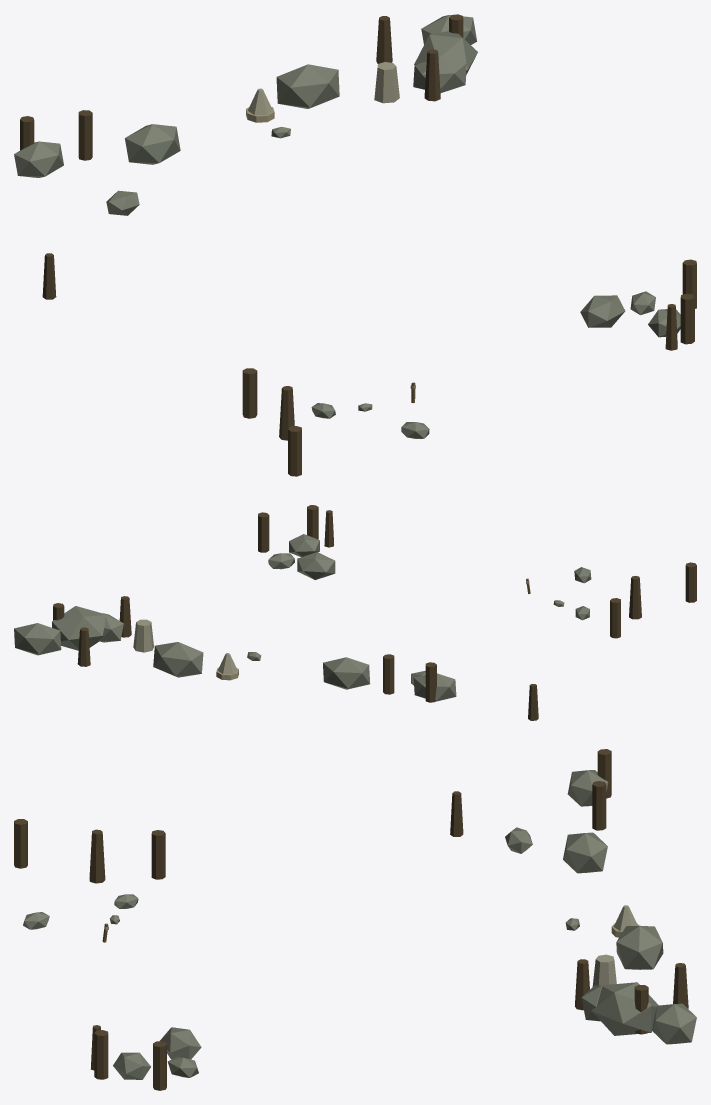
The model's file is windward_ridge_gate_solid_props.fbx.
3 views of the same model, one above another, from view 1: azimuth 30°, elevation 25°; view 2: azimuth 150°, elevation 25°; view 3: azimuth 270°, elevation 25° (orthographic). The views are drawn at different scales.
Parts seen in each view (by area): view 1: chunk_windward_ridge_gate__PropsSolid; view 2: chunk_windward_ridge_gate__PropsSolid; view 3: chunk_windward_ridge_gate__PropsSolid.
Boxes of the visible parts, x1,y1,x2,y2 form: chunk_windward_ridge_gate__PropsSolid: (14,14,696,476); chunk_windward_ridge_gate__PropsSolid: (14,505,696,720); chunk_windward_ridge_gate__PropsSolid: (14,749,696,1090).
Bounding box in the file's own units: 178 × 42.85 × 198.
